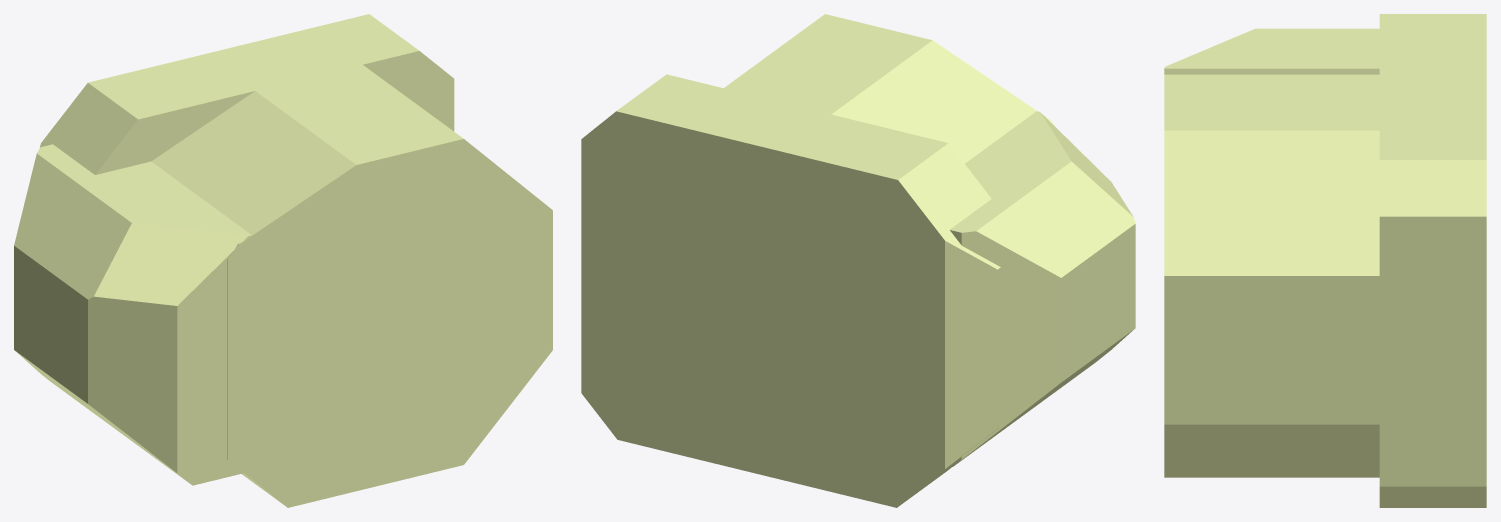
3 views of the same model, side by side, from view 1: azimuth 30°, elevation 25°; view 2: azimuth 150°, elevation 25°; view 3: azimuth 270°, elevation 25° (orthographic). The views are drawn at different scales.
Size of the model in its own units: 332 by 239 by 200.
